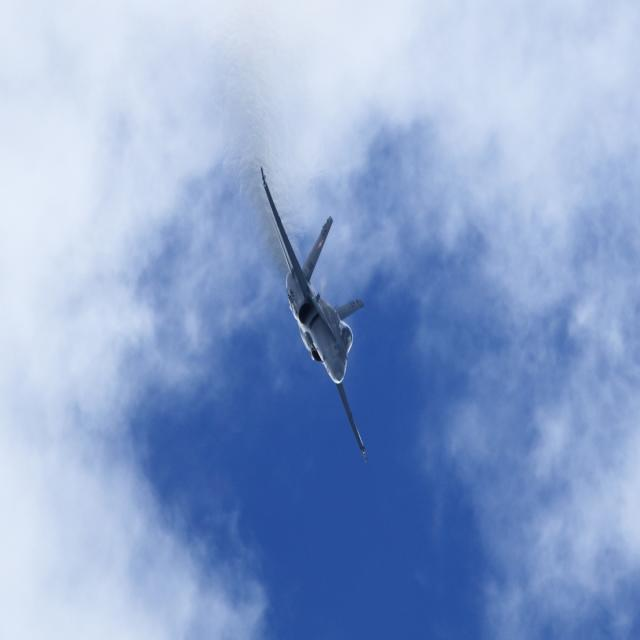MIL_Plane: (260, 166, 368, 463)
